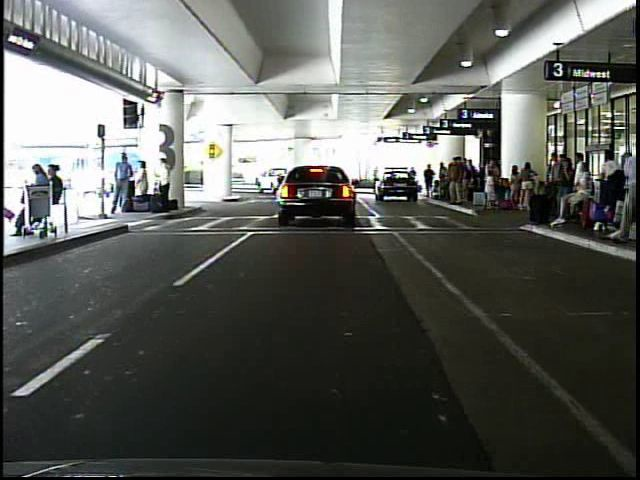person: (106, 150, 137, 218), (157, 154, 174, 213), (136, 159, 153, 209), (423, 162, 437, 198), (409, 162, 419, 192)
